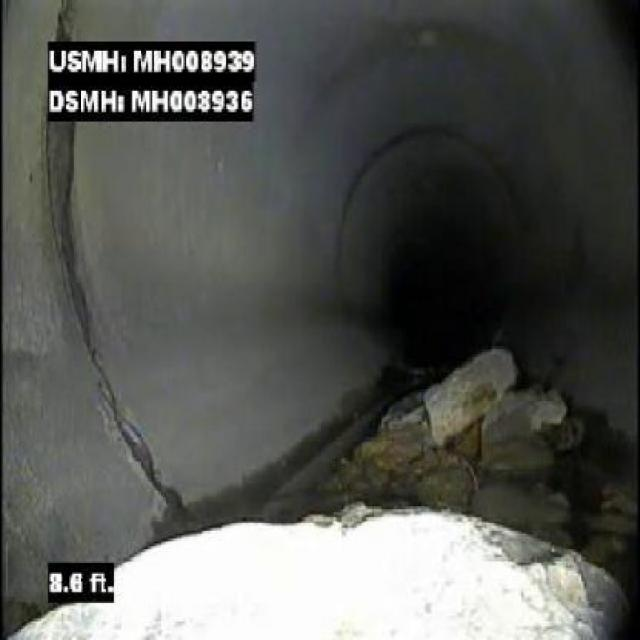Obstacle: (11, 494, 623, 638), (380, 337, 583, 477)
